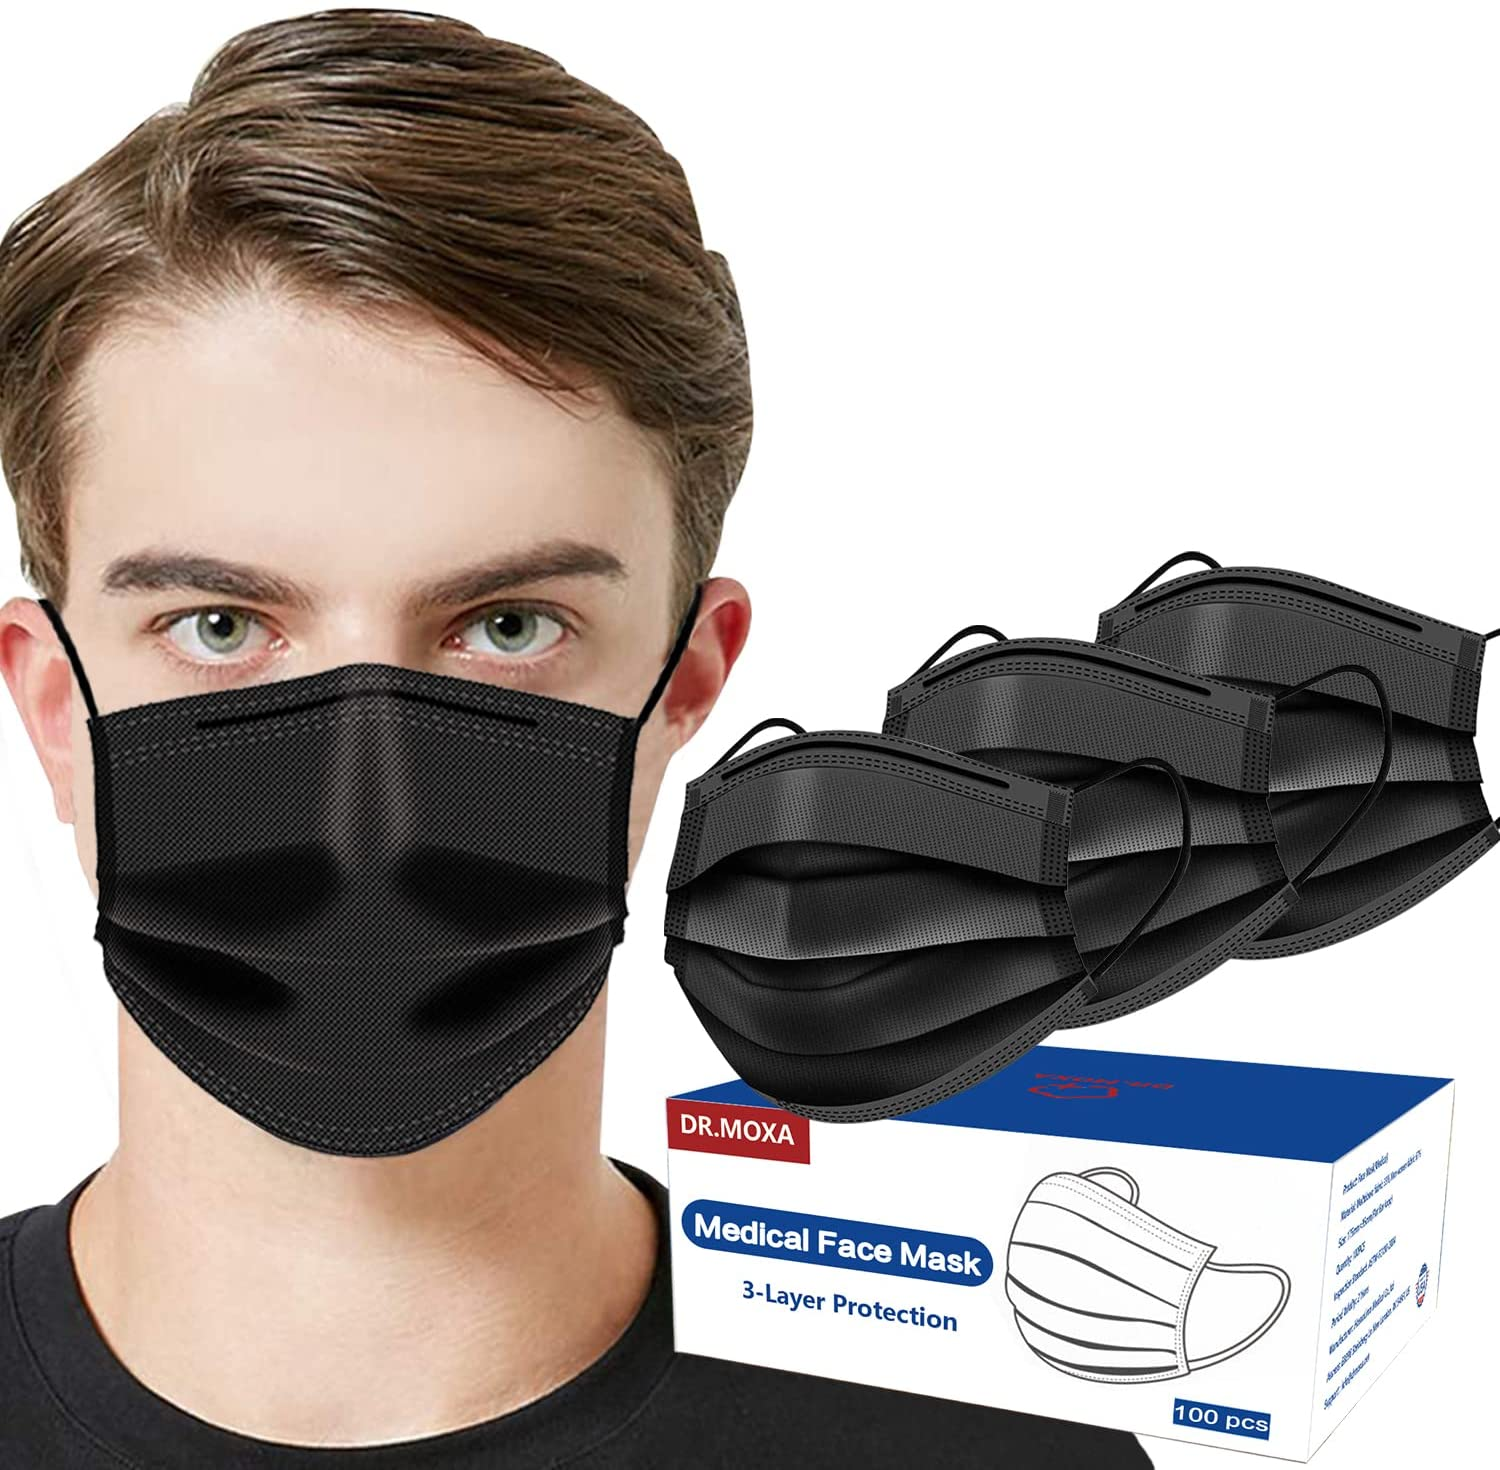mask: (65, 695, 656, 1158), (813, 609, 1348, 1028), (647, 724, 1182, 1143), (965, 532, 1500, 951)
person: (13, 18, 849, 1470)
